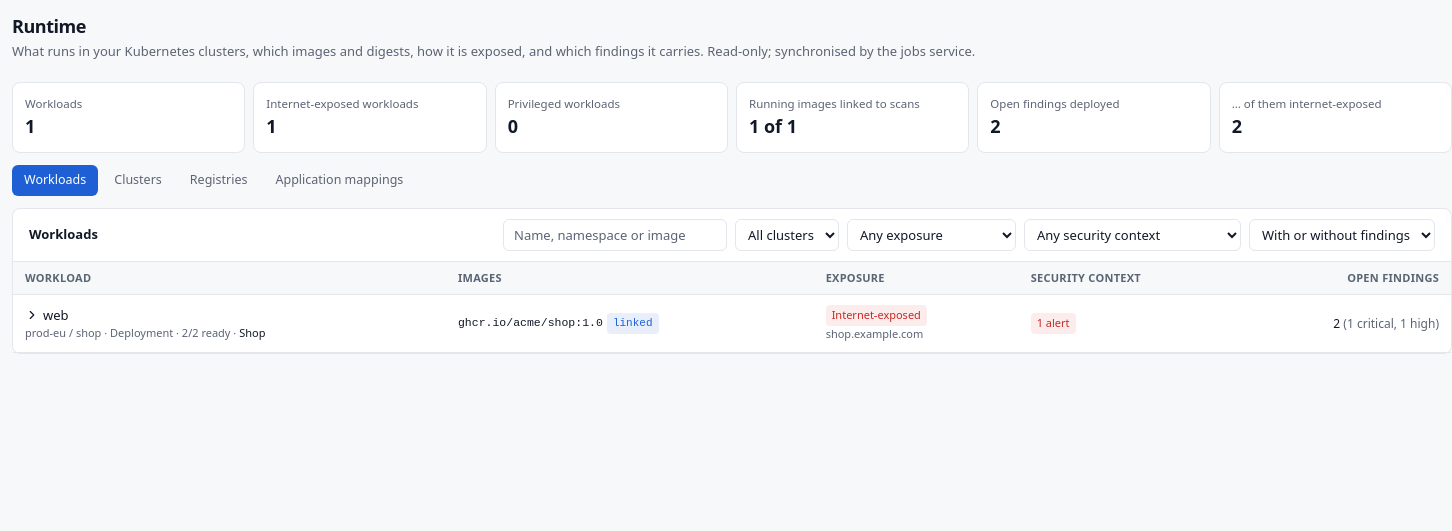
Test: runtime page › lists workloads with images, links, exposure and finding counts
This screenshot has width=1452, height=531.
Check: the text "Internet-exposed" is shown, box [826, 305, 927, 326]
Check: the text "shop.example.com" is shown, box [826, 326, 923, 340]
Click the button "web": [47, 315] box [25, 306, 68, 325]
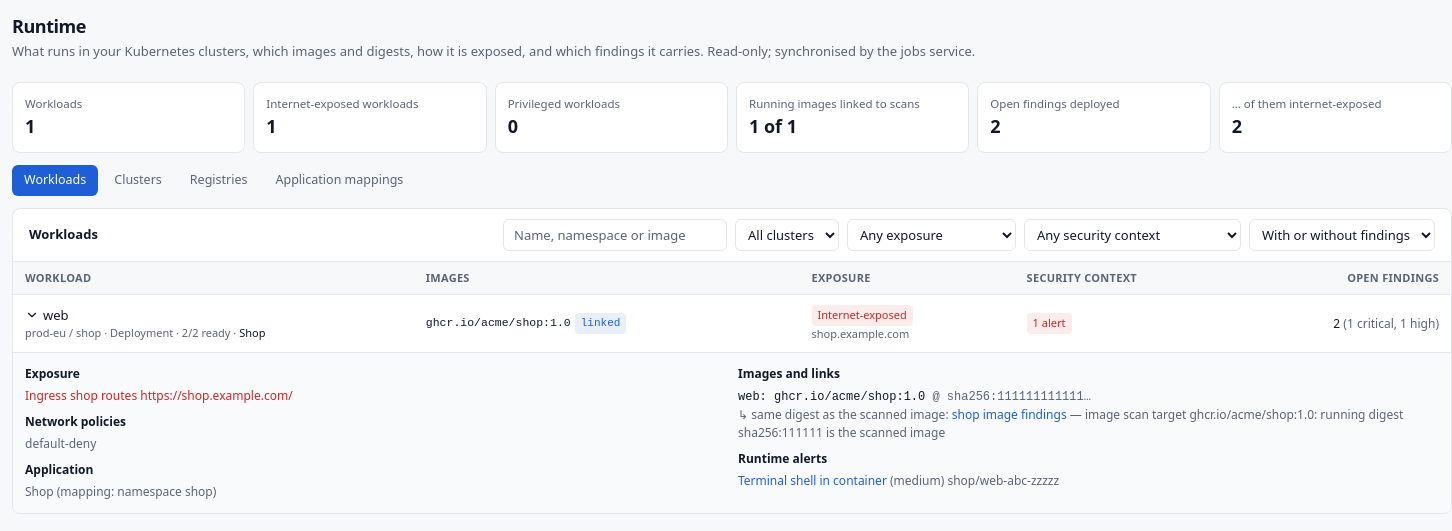
Check: the link "Terminal shell in container" is shown, box [738, 472, 887, 489]
Check: the list item "Ingress shop routes https://shop.example.com/" is shown, box [25, 387, 293, 404]
Check: the text "Shop (mapping: namespace shop)" is shown, box [25, 483, 216, 500]
